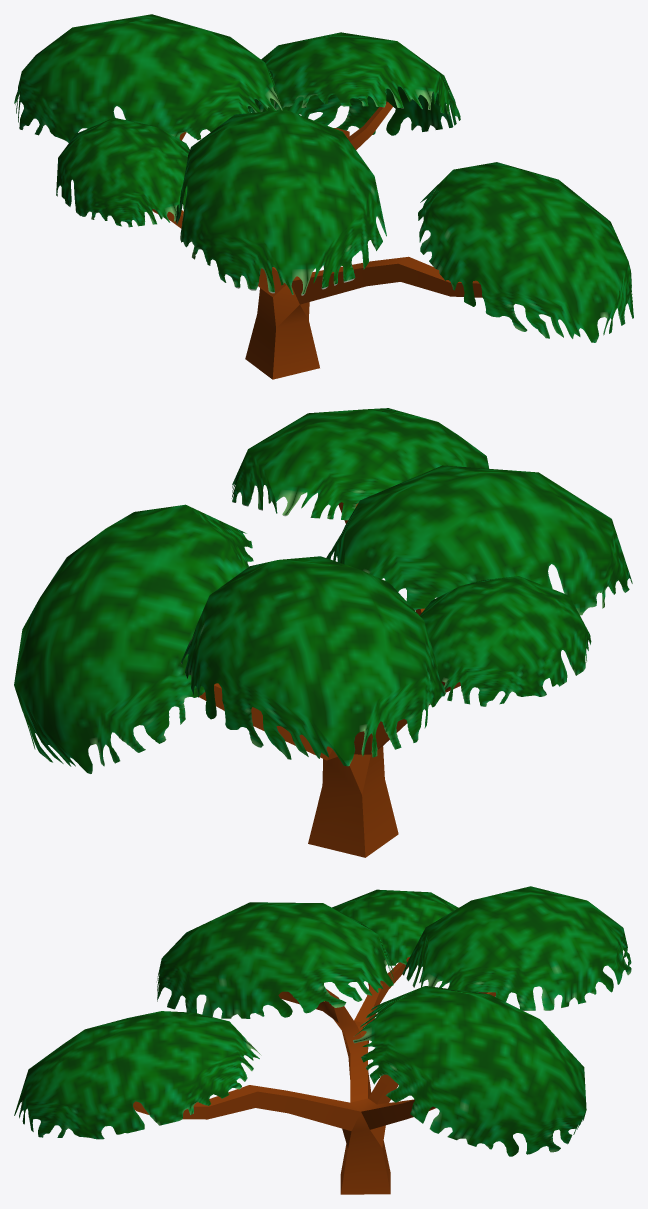
The model's file is SM_Tree_E02.fbx.
The picture shows the model from 3 angles, top to bottom: view 1: azimuth 30°, elevation 25°; view 2: azimuth 150°, elevation 25°; view 3: azimuth 270°, elevation 25°; orthographic projection. The views are drawn at different scales.
Parts seen in each view (by area): view 1: SM_Tree_E02; view 2: SM_Tree_E02; view 3: SM_Tree_E02.
Part boxes in pixels (x1=…): SM_Tree_E02: x1=14, y1=14, x2=633, y2=379; SM_Tree_E02: x1=14, y1=408, x2=632, y2=857; SM_Tree_E02: x1=14, y1=886, x2=631, y2=1194.
Bounding box in the file's own units: 424 × 290 × 621.
